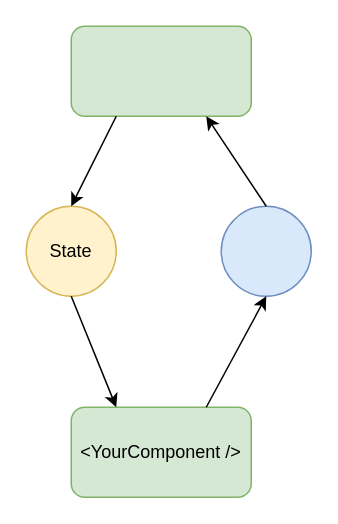
The diagram is 338 pixels wide and 524 high, and some of its shapes have lost their labels. Each missing label, with the centre of its shape:
<VideoRenderer />: the point at 160,70
Actions: the point at 265,250
